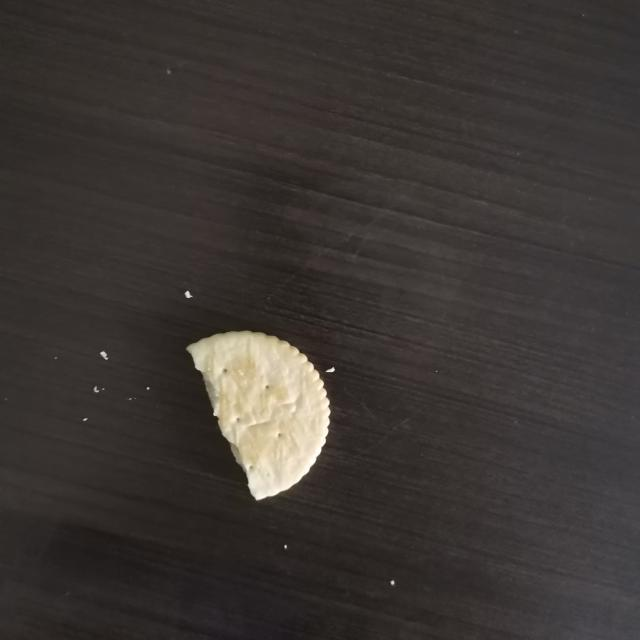Broken: (185, 329, 331, 502)
